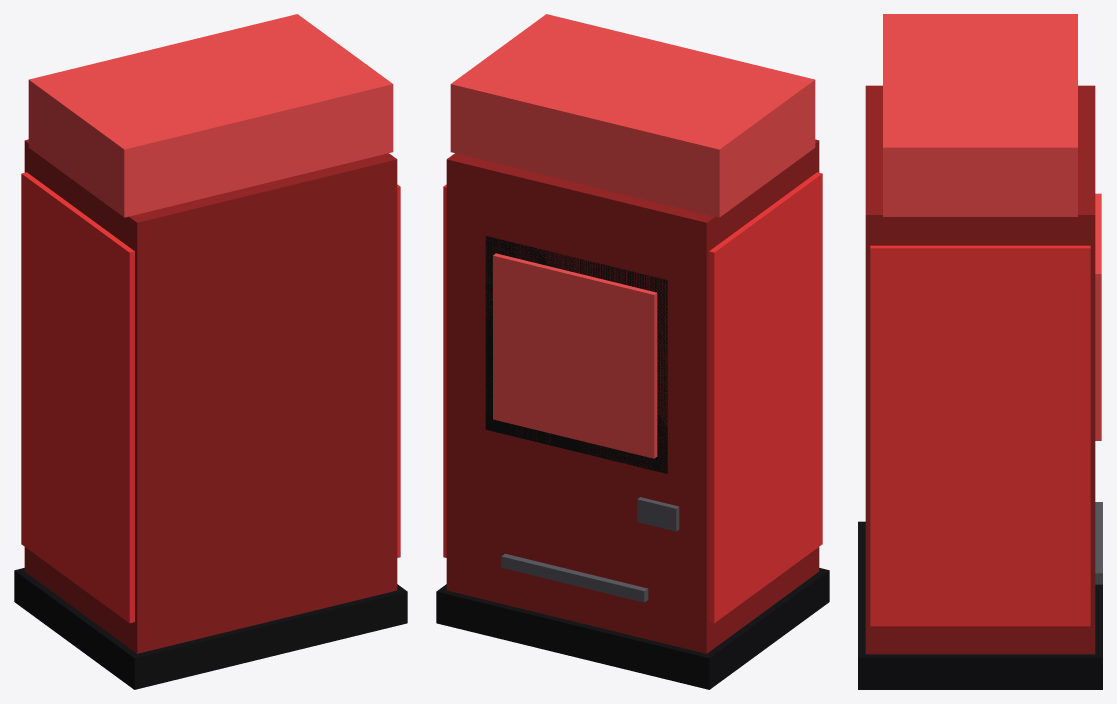
File: perk_juggernog.obj
The picture shows the model from 3 angles, left to right: view 1: azimuth 30°, elevation 25°; view 2: azimuth 150°, elevation 25°; view 3: azimuth 270°, elevation 25°; orthographic projection.
Visible parts, largest first — view 1: perk_machine; view 2: perk_machine; view 3: perk_machine.
Boxes of the visible parts, x1,y1,x2,y2 form: perk_machine: (14,14,407,689); perk_machine: (436,14,829,689); perk_machine: (858,14,1102,689).
Size of the model in its own units: 1.26 by 2.34 by 0.96.
